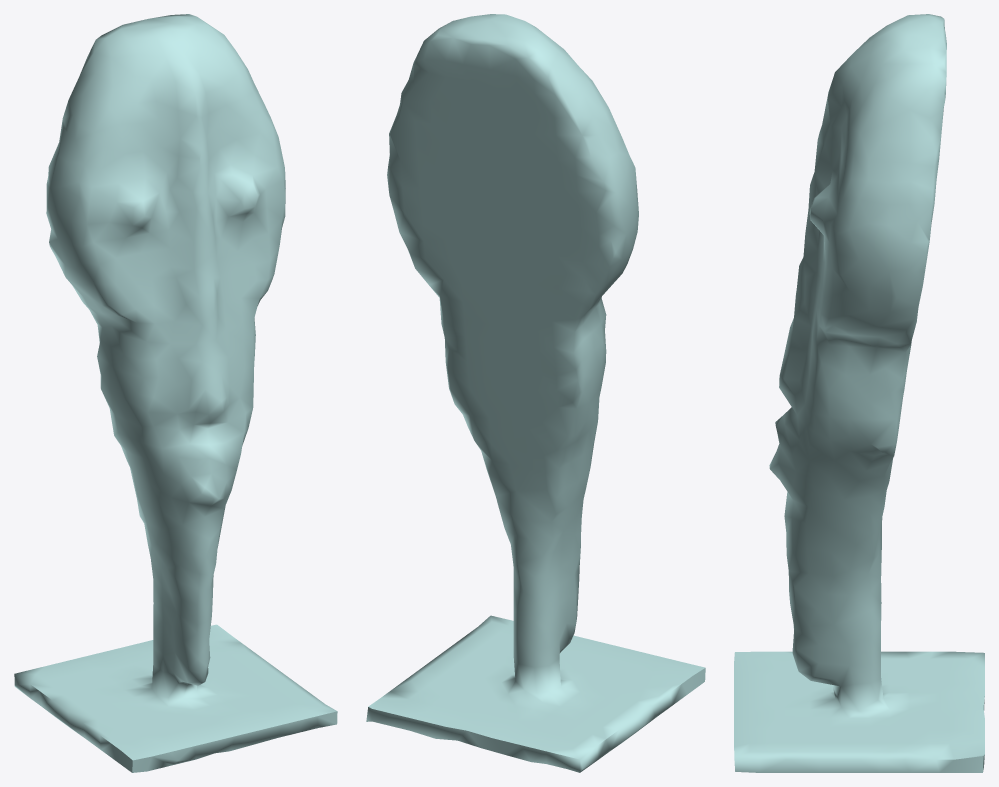
File: mask_8.fbx
3 renders of one model, left to right at view 1: azimuth 30°, elevation 25°; view 2: azimuth 150°, elevation 25°; view 3: azimuth 270°, elevation 25°, orthographic. The views are drawn at different scales.
Visible parts, largest first — view 1: SM_mask_8; view 2: SM_mask_8; view 3: SM_mask_8.
Boxes of the visible parts, x1,y1,x2,y2 form: SM_mask_8: (14,14,337,772); SM_mask_8: (366,14,705,772); SM_mask_8: (734,14,984,772).
Size of the model in its own units: 16.56 by 47.58 by 15.51.
